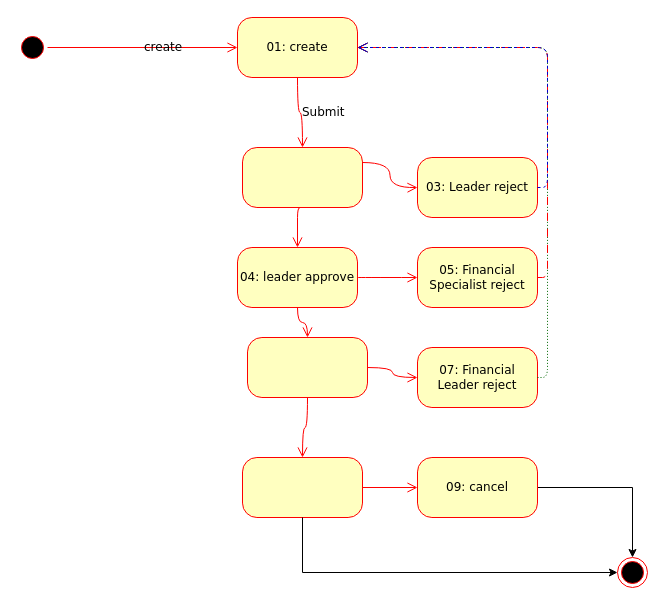
This 665x605 diagram has some shape labels left out. The shapes that lost their labels are listed below. From the top down, each one's centre as x and y in pixels, then its label:
pixel 302 177: 02: submited
pixel 307 367: 06: Financial Specialist approve
pixel 302 487: 08: Financial Leader approve - ADDED to balance
